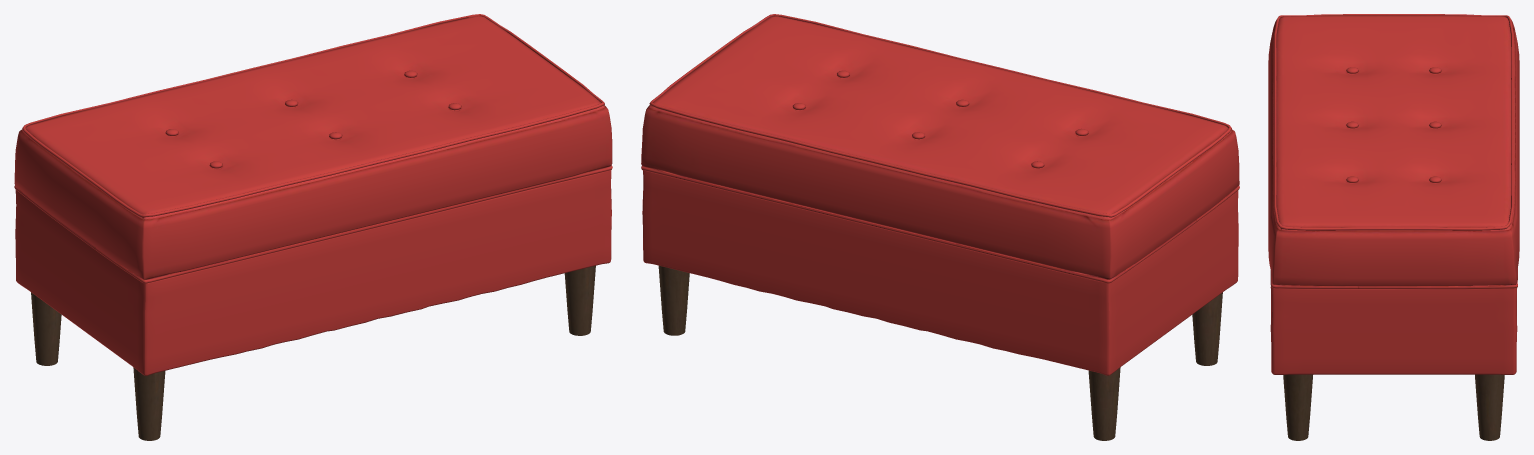
The model's file is martin_velvet_storage_bench.glb.
3 renders of one model, left to right at view 1: azimuth 30°, elevation 25°; view 2: azimuth 150°, elevation 25°; view 3: azimuth 270°, elevation 25°, orthographic. The views are drawn at different scales.
Visible parts, largest first — view 1: RootNode; view 2: RootNode; view 3: RootNode.
Part boxes in pixels (box(x1,y1,x2,y2)): RootNode: box(14, 14, 612, 440); RootNode: box(641, 14, 1239, 440); RootNode: box(1268, 14, 1519, 440).
Bounding box in the file's own units: 1.02 × 0.4708 × 0.4918.
Materials: 1 (1 with a texture image).
